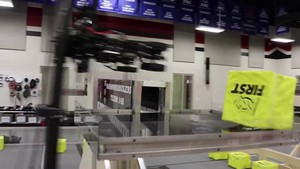cube: (221, 69, 294, 132)
